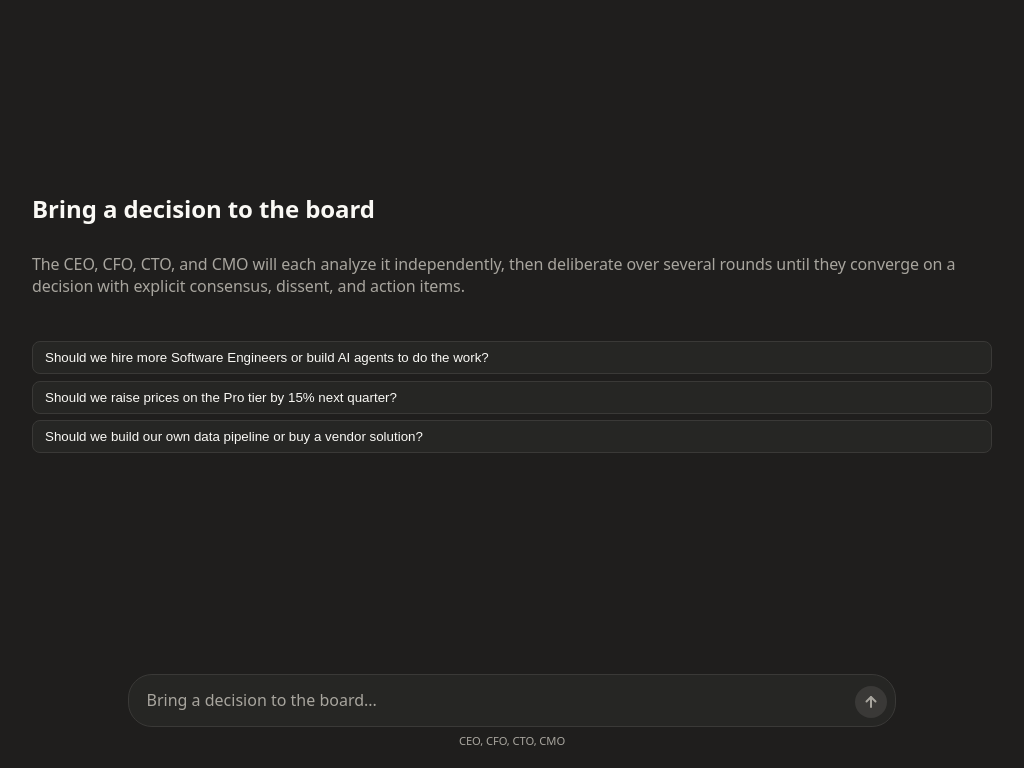
Test: ChatPage — a submit that never reaches the server › surfaces the failure instead of leaving the prompt bubble hanging
In the text box named "decision prompt": (512, 700) [129,675,895,726], type "will not reach the server"
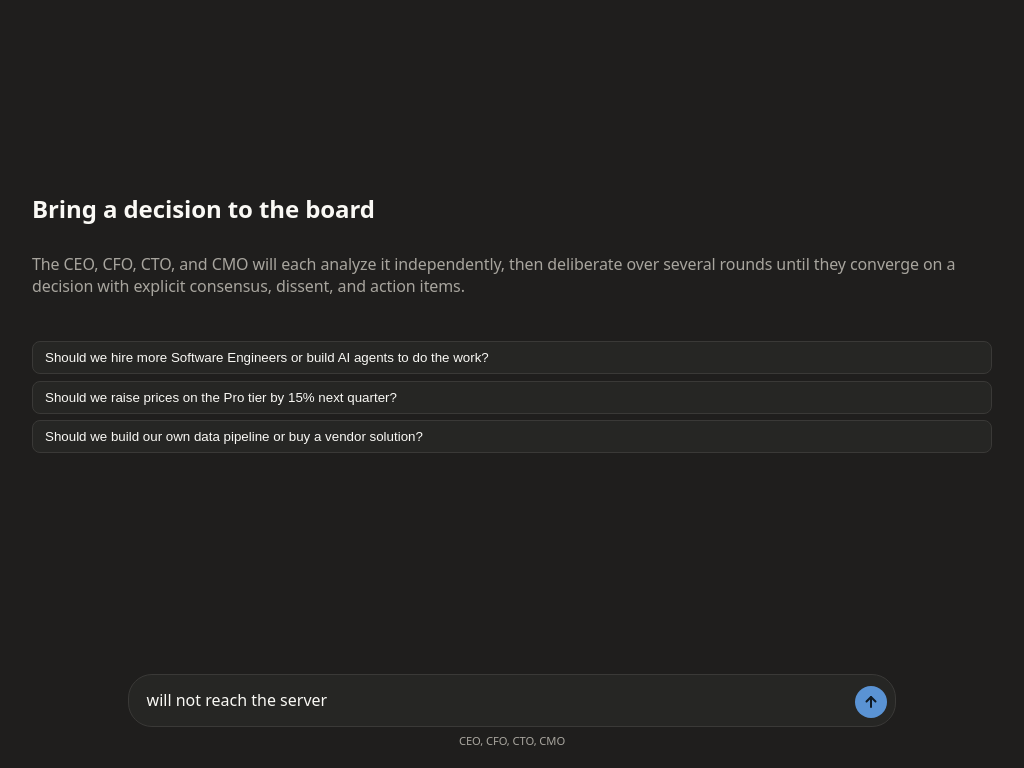
Click the button named "Send prompt": (871, 702) [855,686,887,718]
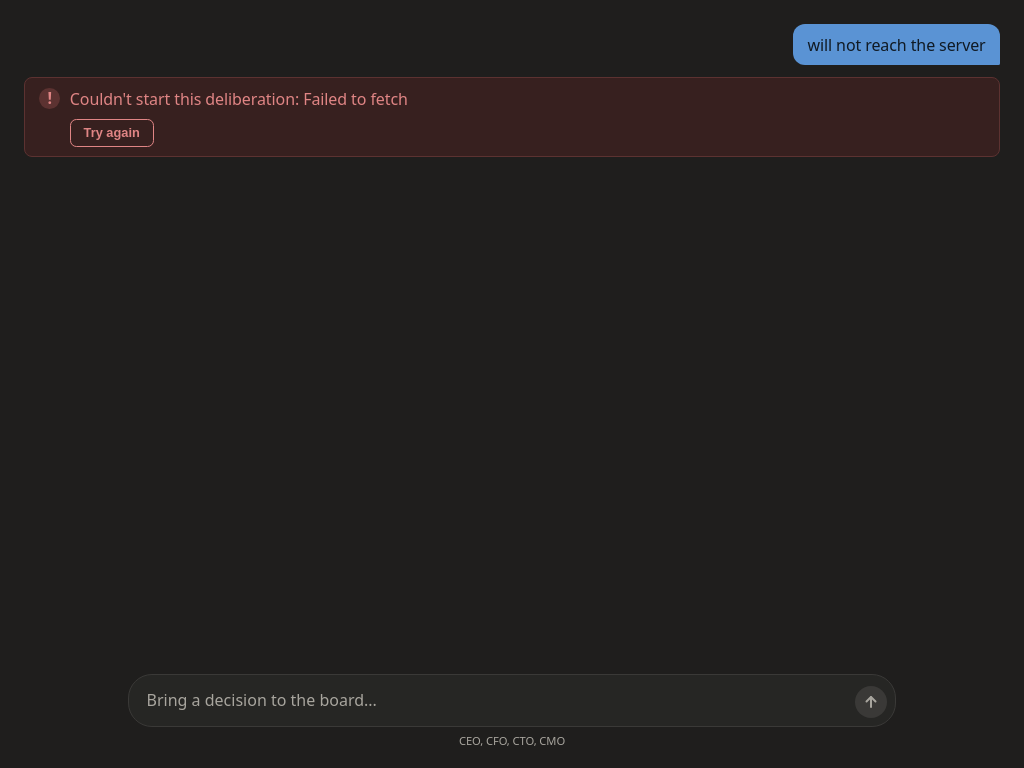
Result: the message shows "Couldn't start this deliberation: Failed to fetch" at [70,88,408,110]
